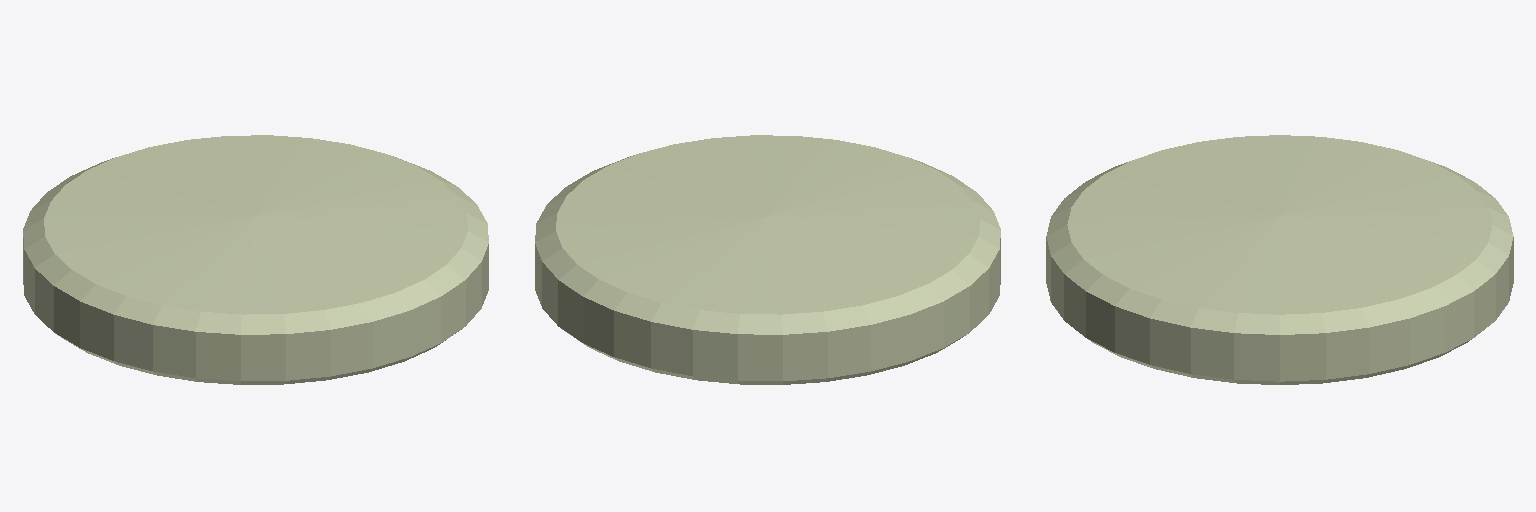
Rendered from roomba.obj.
3 views of the same model, side by side, from view 1: azimuth 30°, elevation 25°; view 2: azimuth 150°, elevation 25°; view 3: azimuth 270°, elevation 25° (orthographic).
Parts seen in each view (by area): view 1: roomba; view 2: roomba; view 3: roomba.
Part boxes in pixels (x1,y1,x2,y2): roomba: (23,135,488,384); roomba: (535,135,1000,384); roomba: (1046,135,1513,384).
Bounding box in the file's own units: 1.64 × 0.3048 × 1.64.